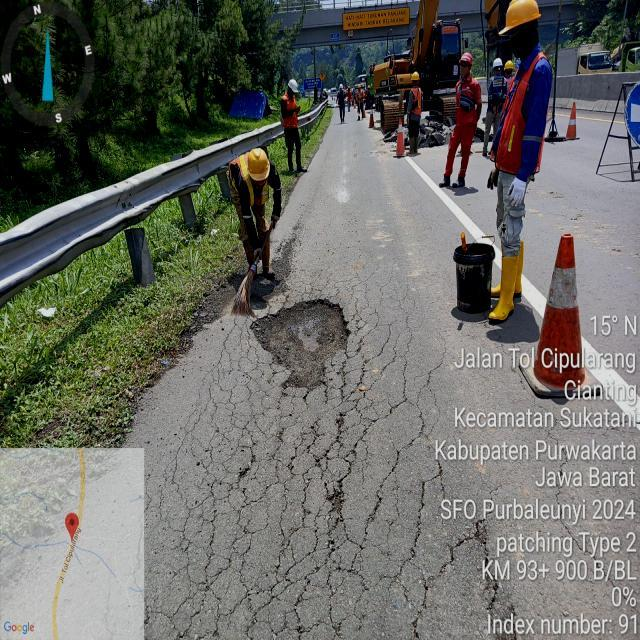Buraco: (247, 296, 354, 393)
